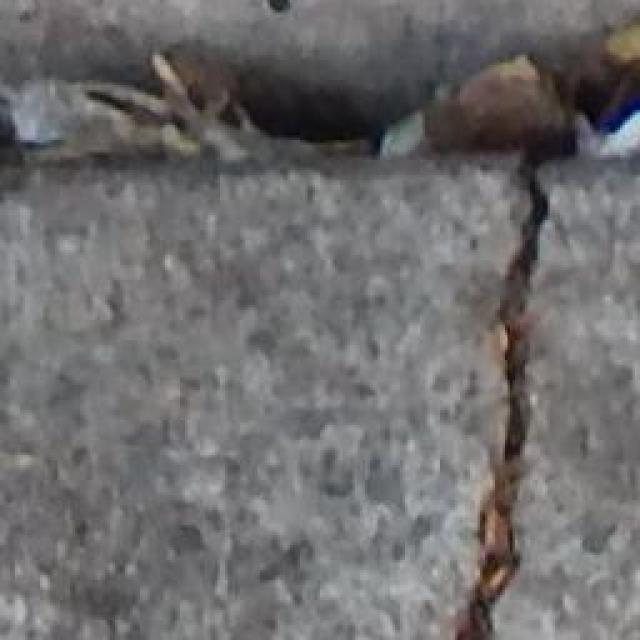concrete-crack: (0, 11, 640, 640)
